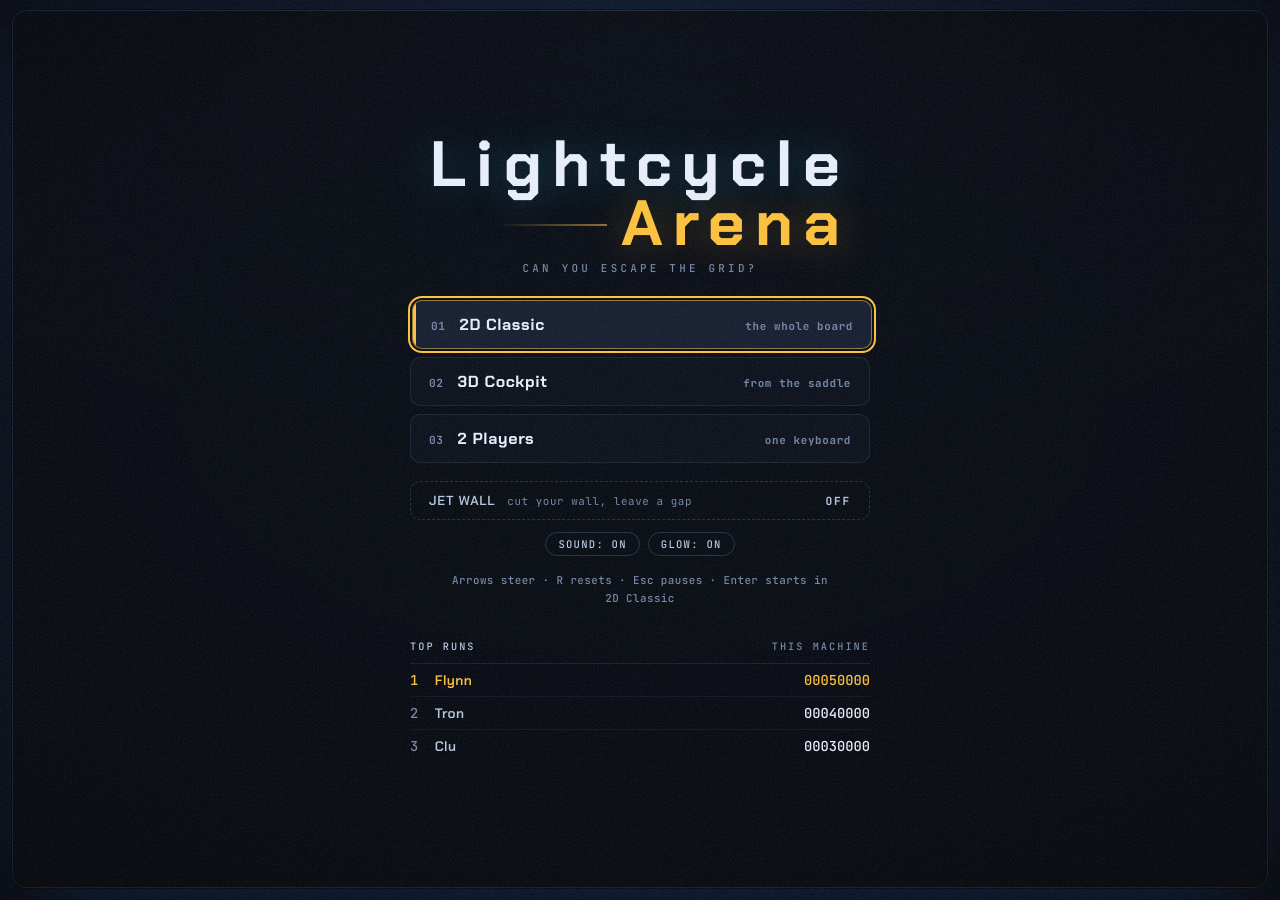
GameCanvas › pauses on Escape too, which is where a hand already is
Click the button "01 2D Classic the whole board": [502, 325] box [412,300,872,350]
Wait 300 ms
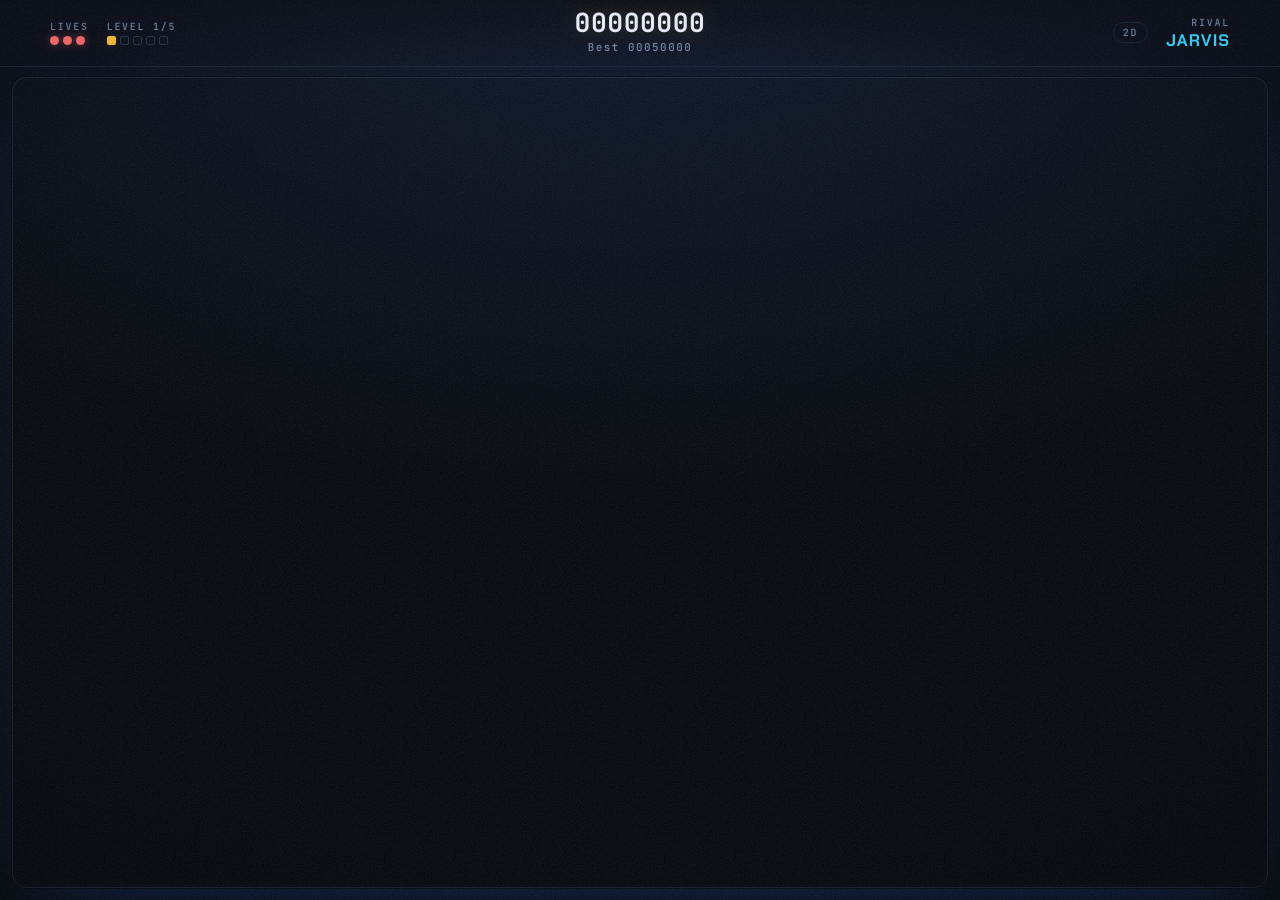
Press Escape
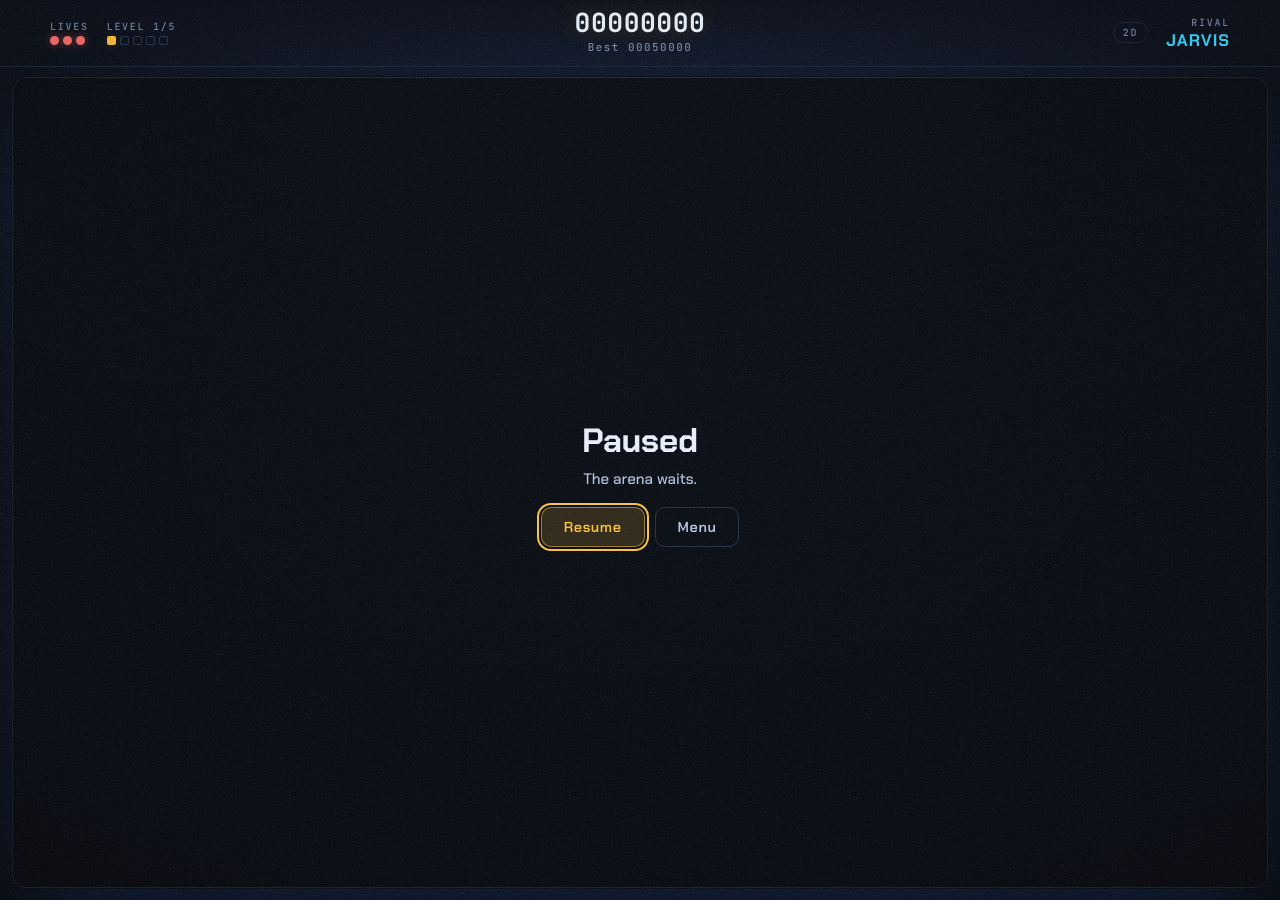
Check: the dialog shows "Paused", box [582,419,698,462]
